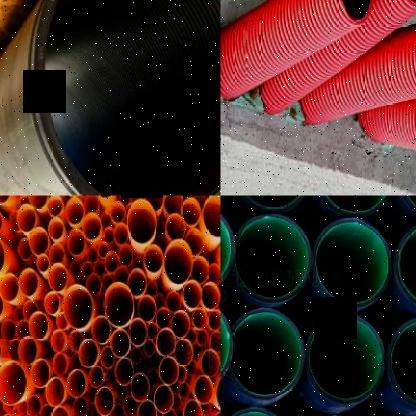pipe: (32, 0, 220, 196), (313, 217, 391, 309), (306, 313, 384, 404), (234, 214, 312, 303), (230, 308, 304, 399), (385, 314, 416, 409), (393, 219, 416, 311), (315, 196, 394, 218), (63, 284, 93, 330), (165, 239, 194, 285), (104, 283, 134, 326), (0, 361, 26, 405), (336, 0, 372, 22), (203, 196, 220, 237), (94, 387, 115, 416), (45, 377, 66, 406), (182, 280, 203, 309), (181, 197, 202, 226), (30, 358, 50, 388), (160, 356, 180, 386), (144, 244, 164, 274), (173, 338, 194, 366), (170, 310, 191, 338), (127, 268, 148, 296), (154, 385, 174, 414), (18, 336, 38, 365), (16, 204, 36, 233), (29, 310, 48, 340), (48, 262, 67, 292), (184, 228, 204, 256), (29, 228, 49, 256), (165, 212, 185, 240), (67, 370, 86, 399), (19, 268, 38, 297), (79, 338, 97, 368), (0, 272, 18, 302), (115, 358, 134, 386), (201, 349, 220, 377), (157, 328, 176, 356), (128, 318, 147, 346), (131, 373, 149, 402), (111, 328, 129, 357), (195, 376, 213, 404), (92, 316, 110, 344), (191, 256, 209, 284), (67, 228, 85, 256), (83, 212, 101, 240), (138, 295, 156, 322), (202, 283, 220, 310), (66, 198, 84, 224), (44, 291, 60, 315), (163, 196, 182, 216), (52, 353, 68, 376), (183, 398, 203, 416), (48, 242, 65, 263), (50, 330, 66, 352), (192, 307, 208, 329), (69, 330, 84, 353), (22, 300, 38, 321), (105, 250, 119, 274), (89, 366, 104, 388), (100, 346, 115, 368), (156, 306, 171, 328), (166, 290, 181, 312), (86, 274, 101, 296), (48, 218, 63, 240), (137, 399, 156, 416), (111, 200, 125, 223), (72, 396, 88, 416), (26, 395, 41, 416), (8, 338, 21, 362), (2, 319, 16, 341), (119, 244, 133, 266), (18, 238, 32, 260), (16, 320, 31, 340), (114, 223, 127, 245), (124, 396, 138, 416), (48, 196, 62, 216), (145, 196, 163, 211), (114, 266, 128, 285), (208, 309, 220, 331), (208, 263, 220, 285), (9, 209, 20, 232), (36, 254, 50, 272), (209, 332, 221, 352), (84, 196, 99, 212), (49, 405, 70, 416), (94, 259, 106, 278), (29, 196, 48, 208), (0, 233, 5, 277), (56, 312, 68, 330), (70, 259, 82, 277), (10, 234, 22, 252), (178, 383, 191, 399), (130, 347, 142, 364), (148, 369, 159, 387), (82, 261, 93, 279), (98, 241, 109, 259), (101, 275, 114, 290), (186, 360, 198, 376), (143, 340, 155, 356), (197, 330, 209, 346), (116, 384, 127, 401), (106, 368, 117, 385), (186, 328, 197, 345), (13, 306, 24, 323), (154, 293, 165, 310), (87, 246, 98, 263), (100, 211, 111, 228), (39, 403, 53, 416), (17, 400, 28, 416), (45, 342, 56, 358), (147, 322, 158, 338), (103, 227, 114, 243), (172, 393, 182, 410), (87, 387, 97, 404), (177, 366, 187, 383), (96, 293, 105, 311), (132, 257, 144, 270), (140, 357, 151, 371), (71, 354, 82, 368), (147, 281, 157, 296), (397, 0, 415, 8), (156, 220, 165, 236), (112, 403, 123, 416), (3, 403, 15, 414), (89, 403, 99, 416), (19, 195, 29, 207), (119, 195, 130, 205), (161, 410, 177, 416), (0, 291, 3, 319), (130, 196, 142, 202), (218, 292, 221, 315), (0, 207, 2, 235), (0, 336, 1, 365)
